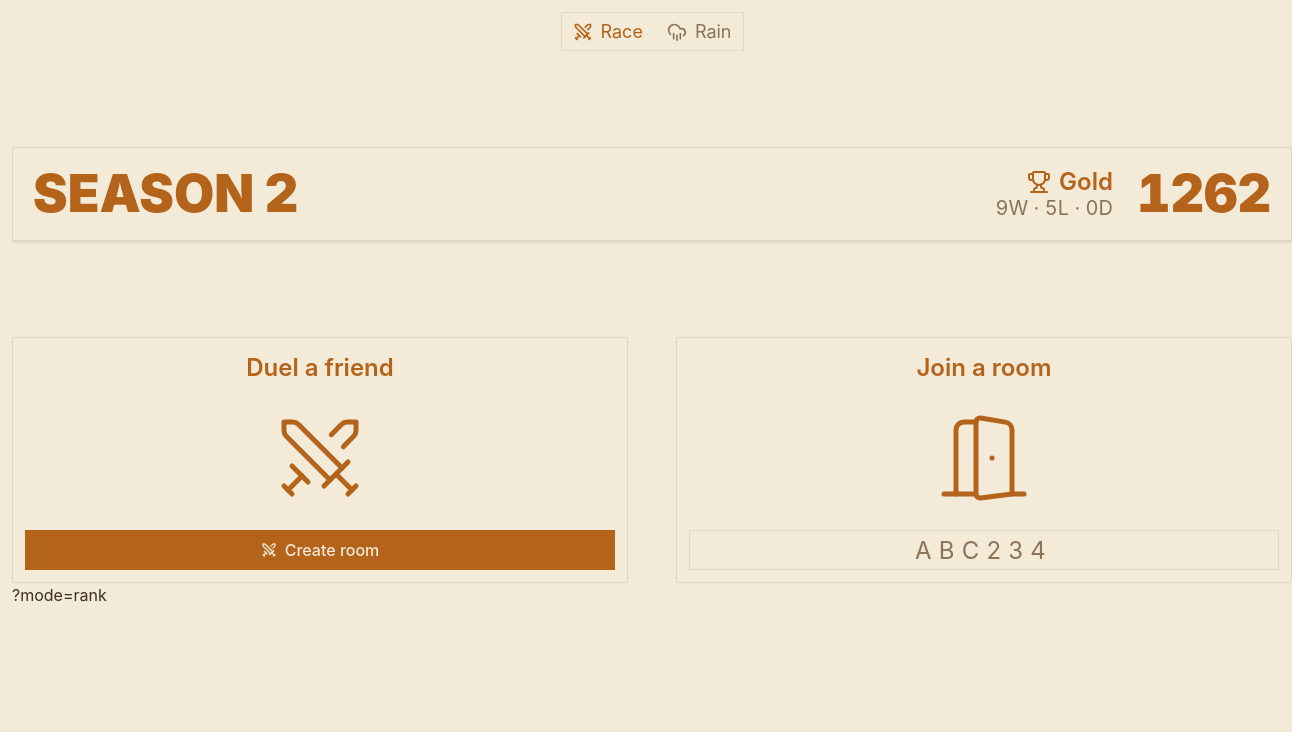
Scenario: RankMode (ranked duel, phase 4) › joins with Enter too, with a code typed in any case
This screenshot has width=1292, height=732.
Type "xyz789" into the field named "Room code" at (984, 550), box 689,530 -> 1279,570
Then press Enter
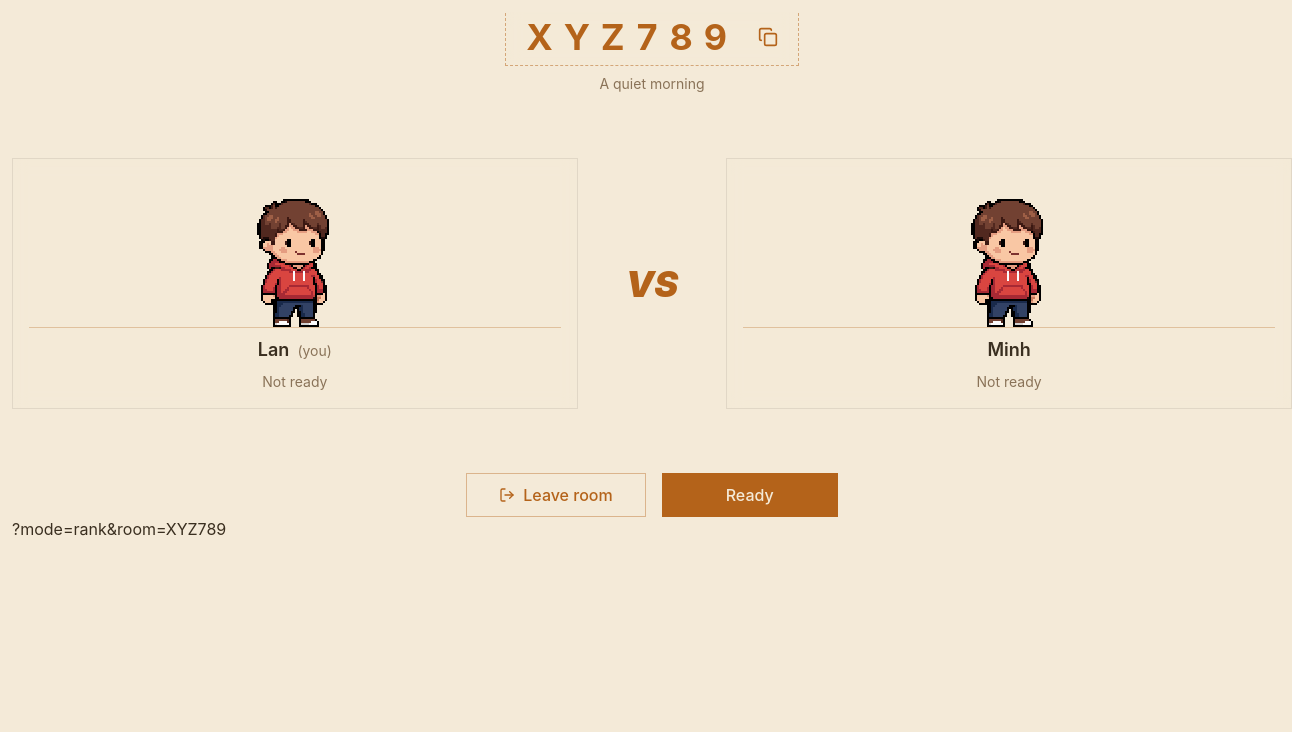
Now the text "XYZ789" is shown, box 526,17 -> 738,57
Now the text "Minh" is shown, box 988,336 -> 1031,364
